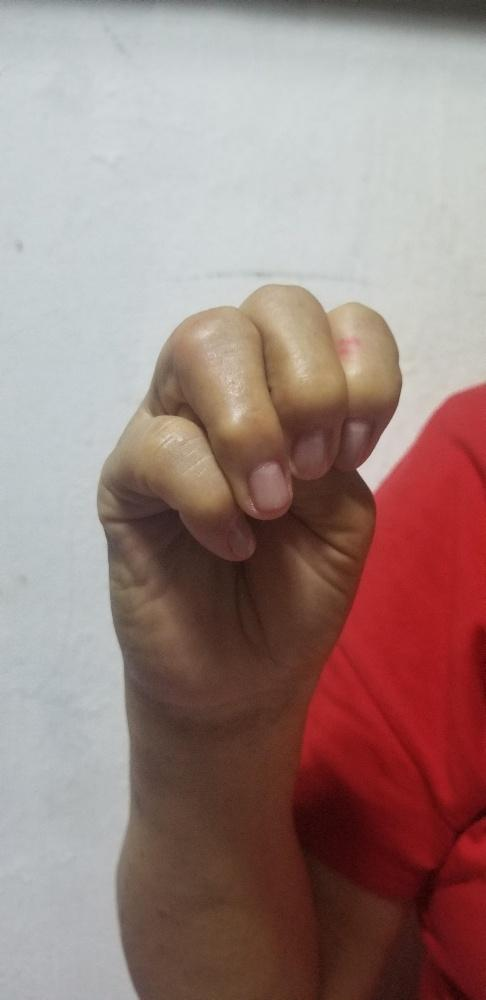m: (93, 279, 405, 706)
